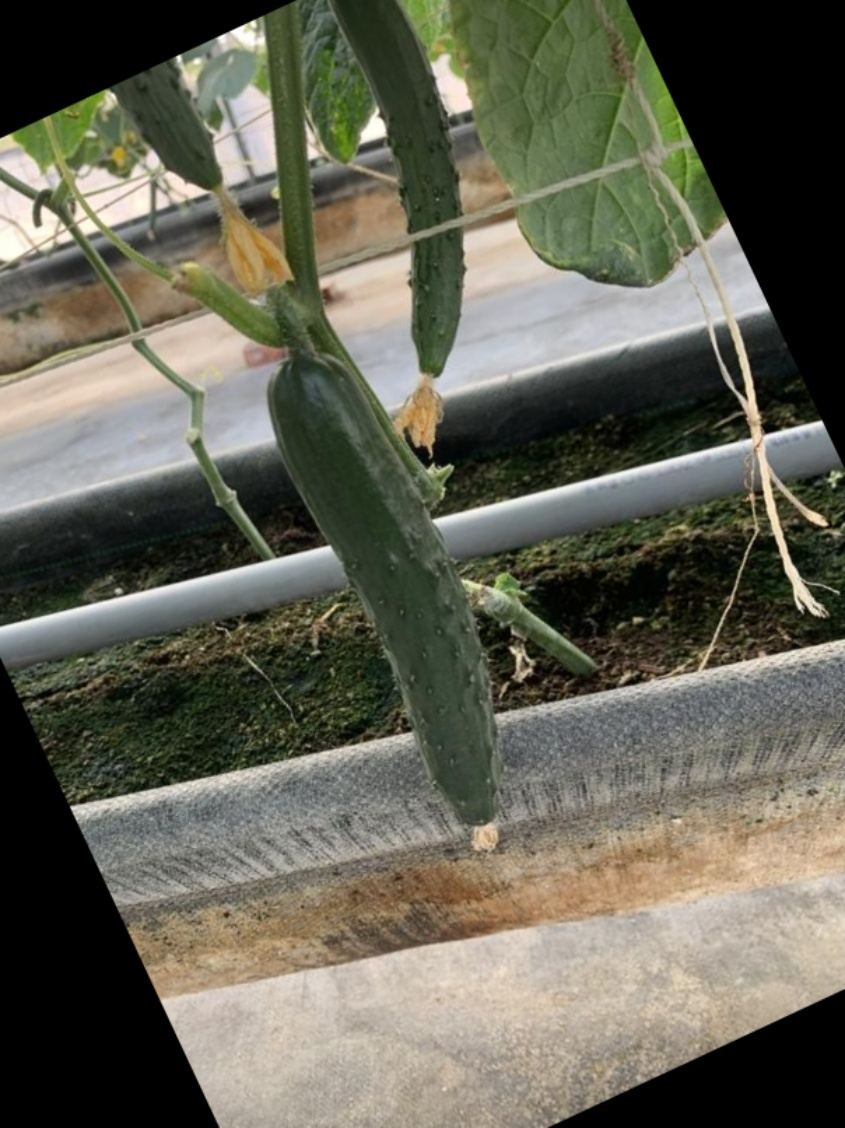mature: (262, 347, 518, 828)
